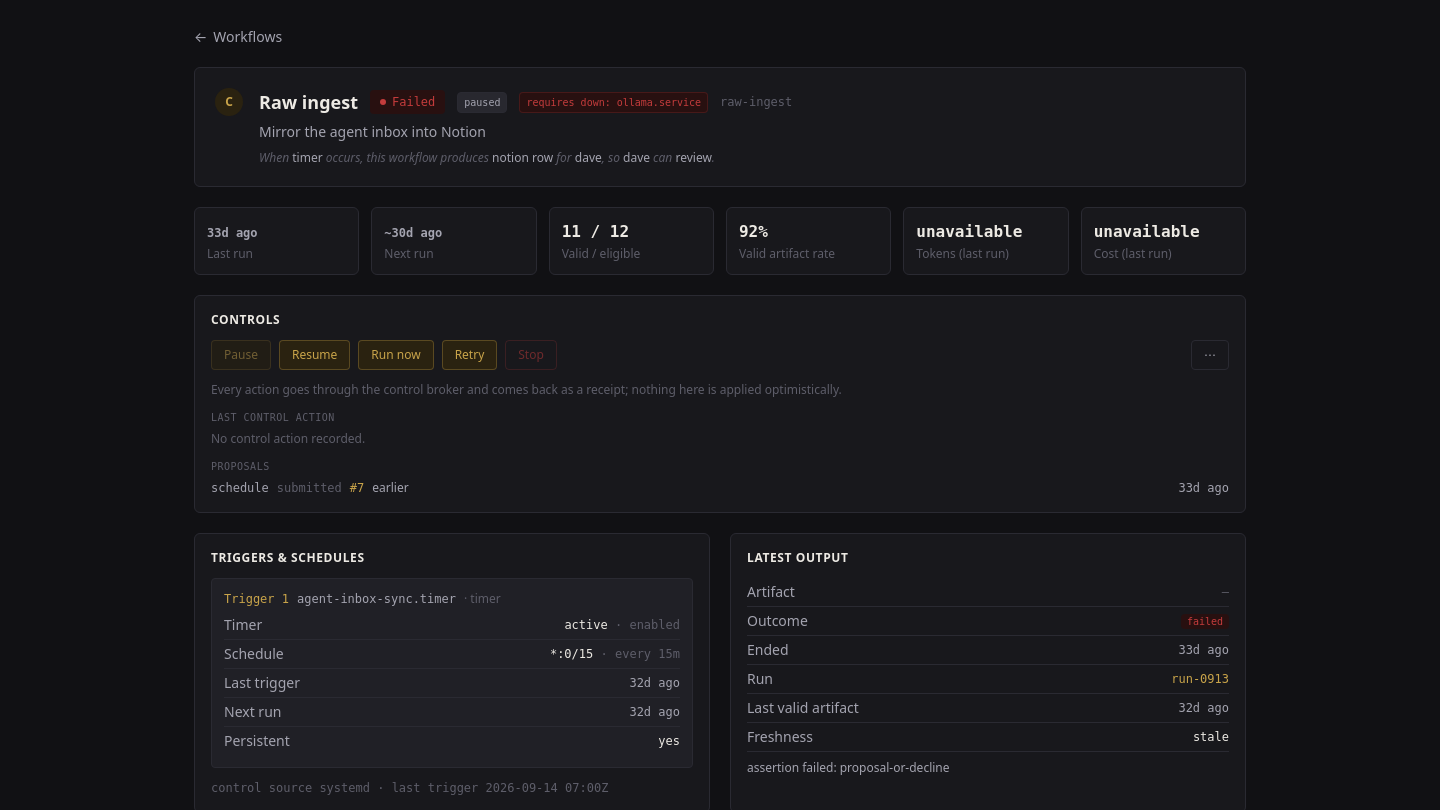
Test case: WorkflowDetail controls › lists existing proposals and offers Change schedule and Retire
The image size is (1440, 810).
Expected: the link "#7" is shown, [350, 480, 364, 496]
Step 1. Click the button named "more" → click(1210, 355), box [1191, 340, 1229, 370]
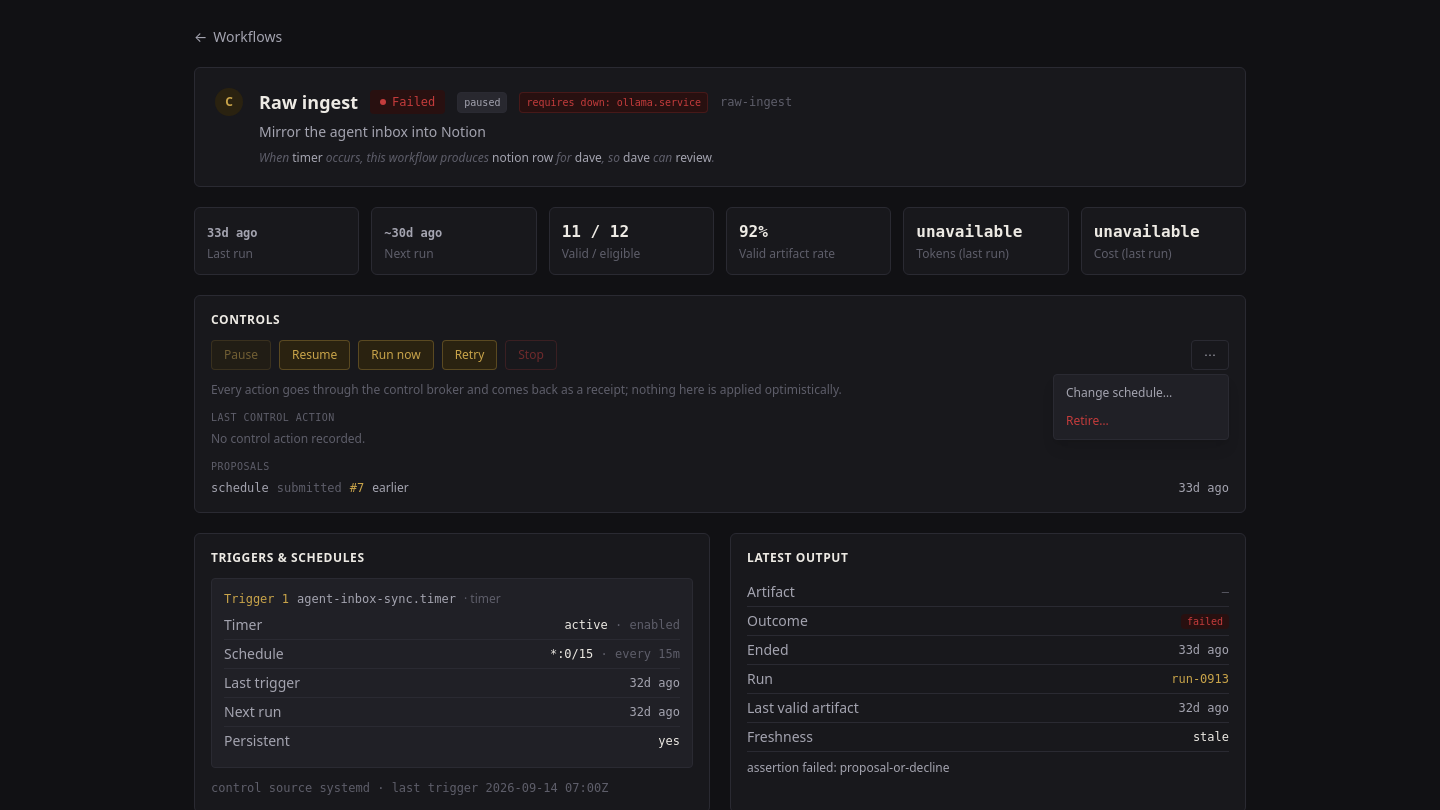
Expected: the menu item "Change schedule…" is shown, [1054, 379, 1228, 407]
Expected: the menu item "Retire…" is shown, [1054, 407, 1228, 435]
